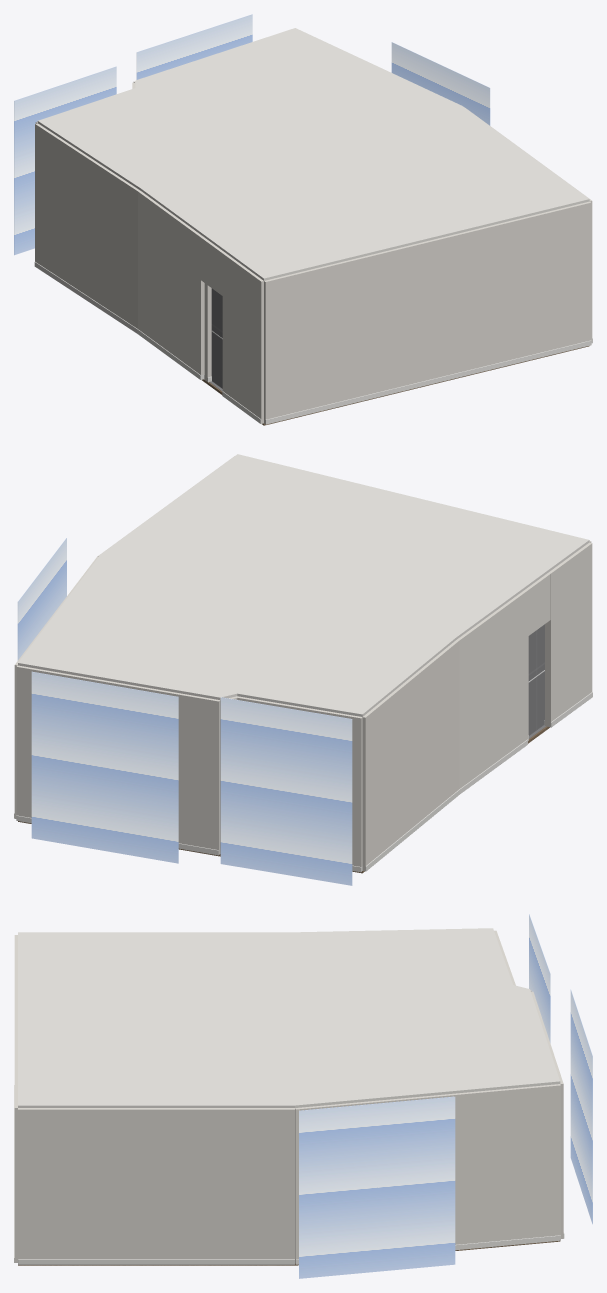
File: twobed_v5.glb
3 renders of one model, top to bottom at view 1: azimuth 30°, elevation 25°; view 2: azimuth 150°, elevation 25°; view 3: azimuth 270°, elevation 25°, orthographic. The views are drawn at different scales.
Parts seen in each view (by area): view 1: Ceiling, Wall_ext_5, Wall_ext_7, Wall_ext_6.001, Wall_ext_6, Window_0_POSITION_UNSOURCED_backdrop, Window_2_POSITION_UNSOURCED_backdrop, Window_3_POSITION_UNSOURCED_backdrop, Wall_ext_5_skirting, Bath_wall_tile_W, Wall_ext_6_lintel, Wall_bath_north (+1 smaller); view 2: Ceiling, Window_2_POSITION_UNSOURCED_backdrop, Window_0_POSITION_UNSOURCED_backdrop, Wall_ext_7, Wall_ext_6.001, Wall_ext_6, Wall_ext_2, Window_3_POSITION_UNSOURCED_backdrop, Wall_ext_2.001, Wall_ext_0, Bath_wall_tile_W, Wall_ext_6_lintel (+2 smaller); view 3: Ceiling, Wall_ext_4, Window_3_POSITION_UNSOURCED_backdrop, Wall_ext_3, Window_2_POSITION_UNSOURCED_backdrop, Wall_ext_4_skirting, Window_0_POSITION_UNSOURCED_backdrop, Wall_ext_5, Wall_ext_3.001, Wall_ext_3_skirting, Wall_ext_2.001.
Part boxes in pixels (x1,y1,x2,y2): Ceiling: (37, 28, 589, 280); Wall_ext_5: (264, 201, 591, 424); Wall_ext_7: (35, 123, 139, 328); Wall_ext_6.001: (138, 190, 204, 375); Wall_ext_6: (222, 252, 263, 423); Window_0_POSITION_UNSOURCED_backdrop: (14, 66, 116, 255); Window_2_POSITION_UNSOURCED_backdrop: (136, 14, 252, 79); Window_3_POSITION_UNSOURCED_backdrop: (391, 42, 490, 125); Wall_ext_5_skirting: (265, 340, 591, 424); Bath_wall_tile_W: (211, 288, 222, 388); Wall_ext_6_lintel: (201, 237, 224, 295); Wall_bath_north: (204, 283, 211, 381); Ceiling: (18, 454, 589, 716); Window_2_POSITION_UNSOURCED_backdrop: (31, 671, 178, 863); Window_0_POSITION_UNSOURCED_backdrop: (220, 697, 352, 885); Wall_ext_7: (362, 640, 459, 871); Wall_ext_6.001: (457, 590, 527, 788); Wall_ext_6: (545, 542, 592, 727); Wall_ext_2: (159, 690, 220, 854); Window_3_POSITION_UNSOURCED_backdrop: (17, 538, 66, 660); Wall_ext_2.001: (16, 665, 76, 817); Wall_ext_0: (333, 712, 362, 866); Bath_wall_tile_W: (528, 624, 544, 735); Wall_ext_6_lintel: (525, 573, 550, 636); Ceiling: (18, 928, 560, 1107); Wall_ext_4: (18, 1108, 294, 1259); Window_3_POSITION_UNSOURCED_backdrop: (299, 1096, 455, 1278); Wall_ext_3: (414, 1084, 560, 1244); Window_2_POSITION_UNSOURCED_backdrop: (570, 989, 592, 1224); Wall_ext_4_skirting: (18, 1259, 294, 1264); Window_0_POSITION_UNSOURCED_backdrop: (529, 914, 550, 1043); Wall_ext_5: (14, 935, 17, 1262); Wall_ext_3.001: (295, 1105, 325, 1263); Wall_ext_3_skirting: (455, 1235, 560, 1250); Wall_ext_2.001: (552, 1056, 563, 1238).
Size of the model in its own units: 8.17 by 3.3 by 10.15.
Materials: 37 (11 with a texture image).
